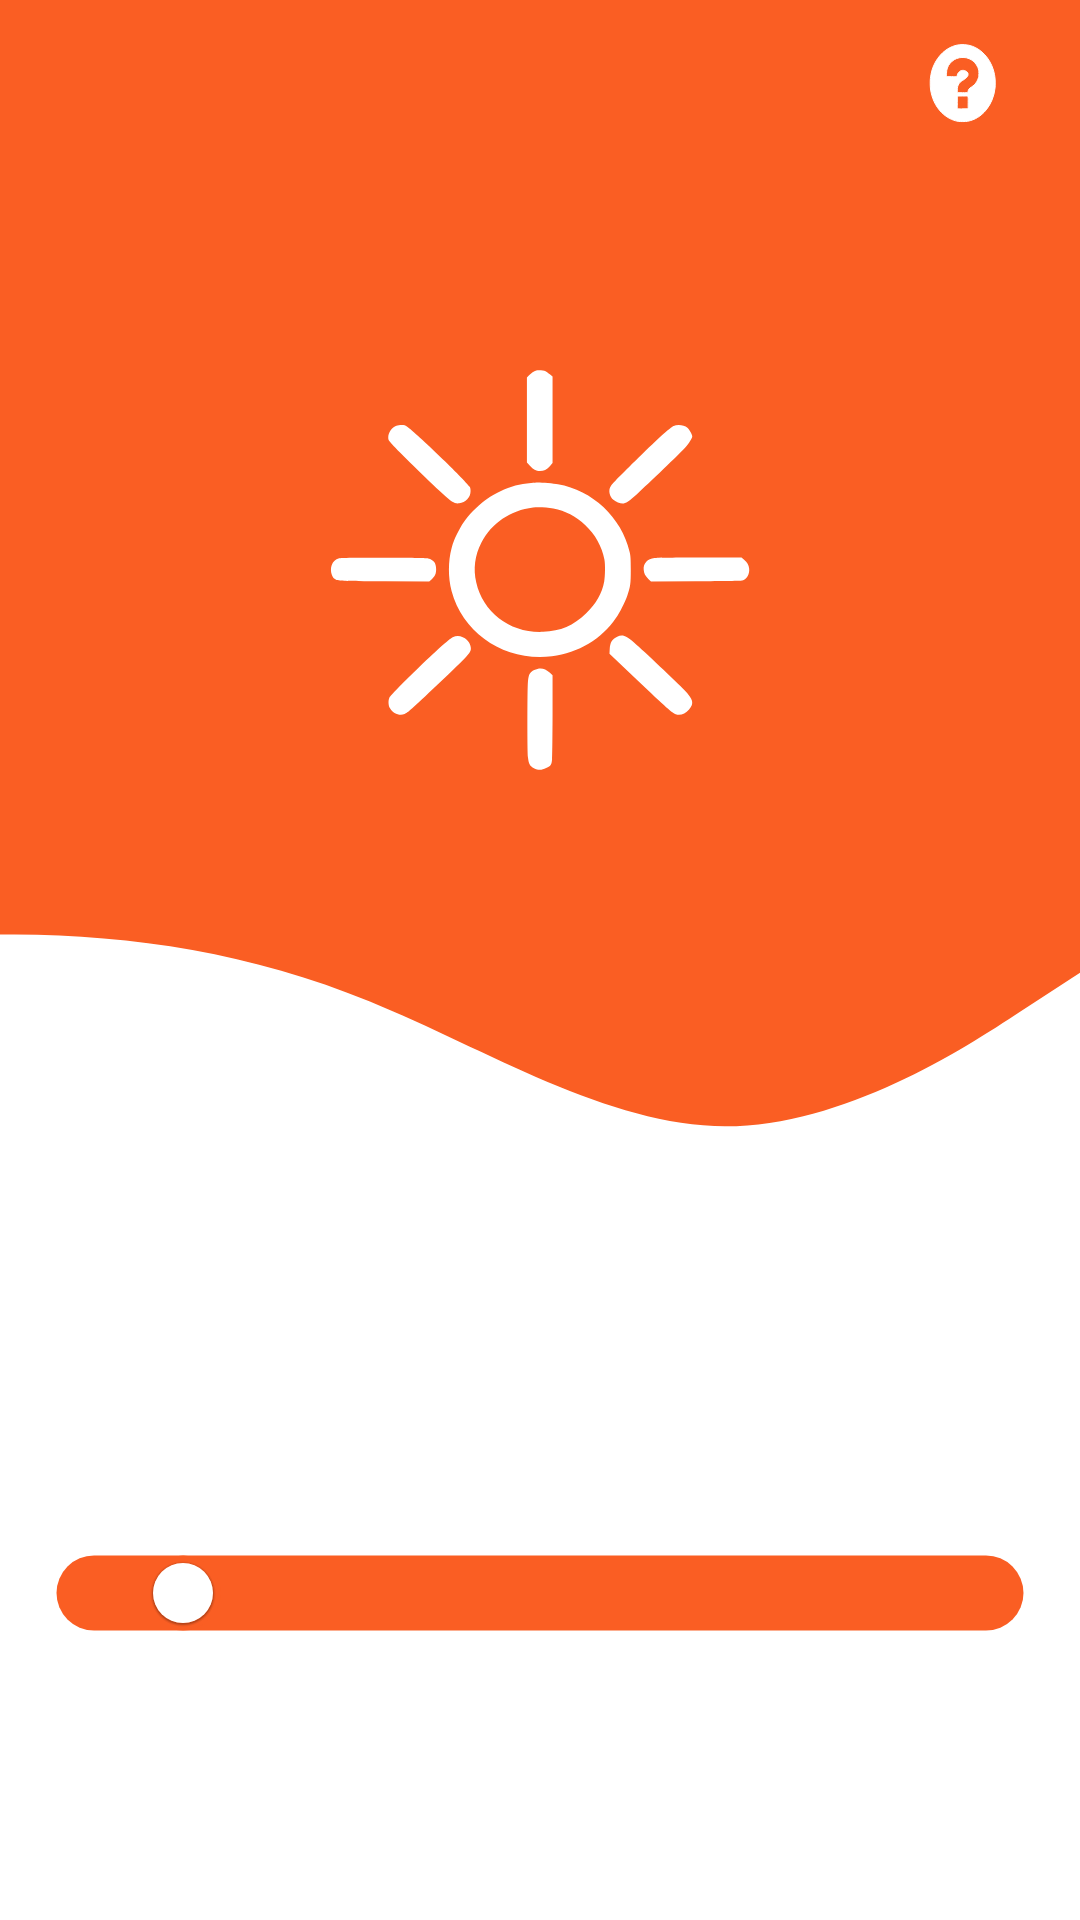

Point at icon controls on the screen. Image size 1080*1920, points as point (x, y).
questionmark: point (962, 83)
